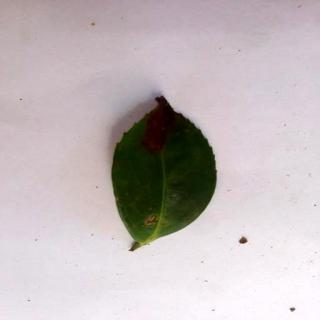Algal Leaf: (112, 100, 219, 249)
